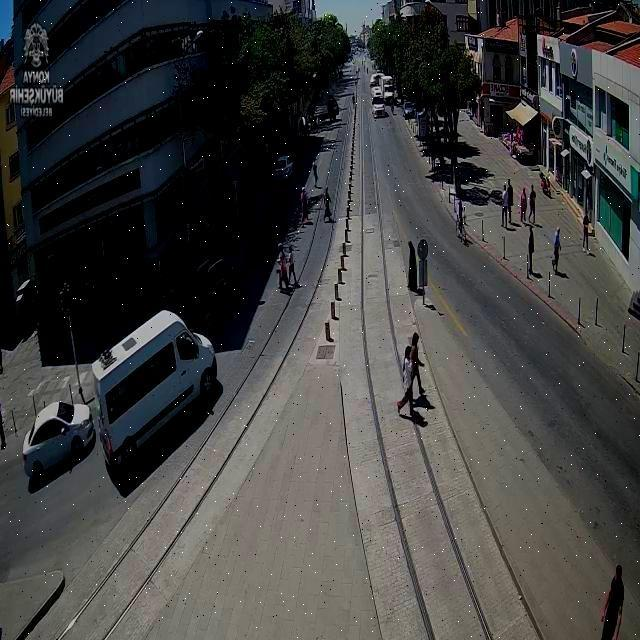Car: (19, 404, 94, 476), (371, 94, 385, 119)
Truck: (90, 302, 219, 466)
